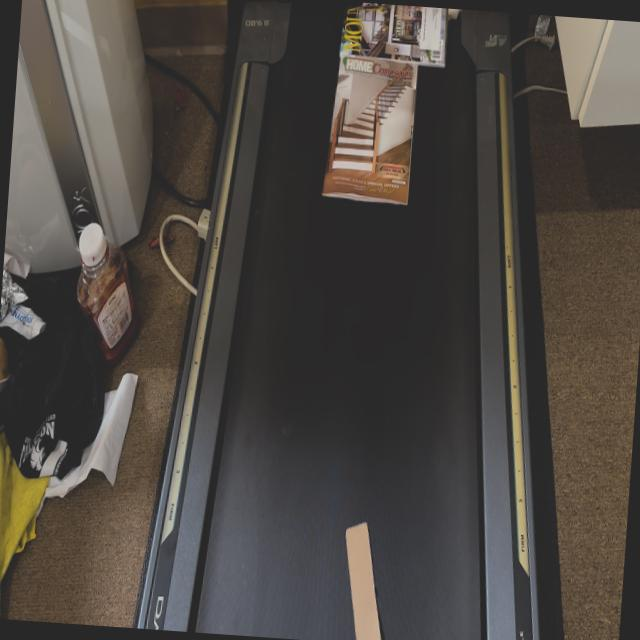Recycle: (320, 44, 418, 206), (340, 4, 450, 70), (337, 520, 391, 640)
